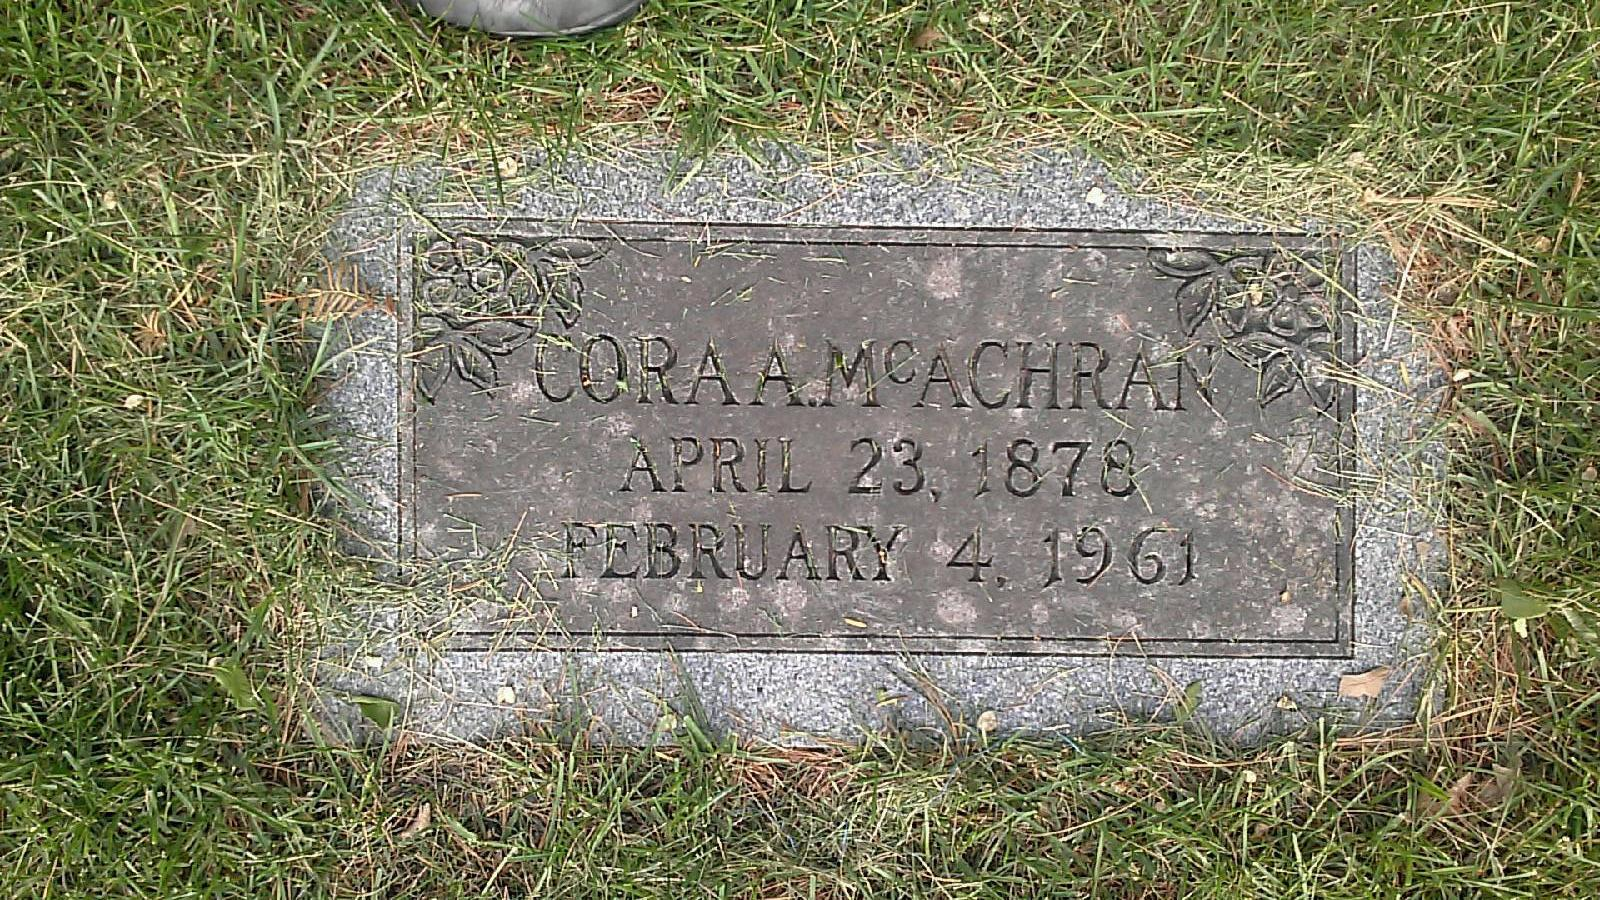flat: (334, 119, 1468, 755)
